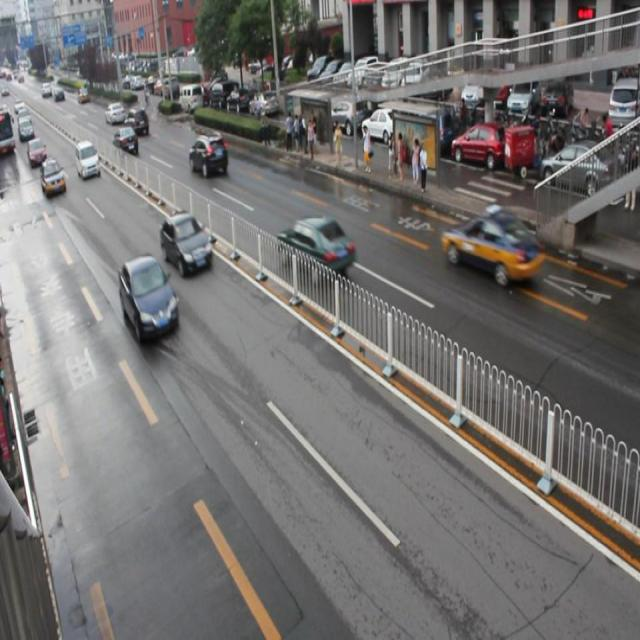car: (439, 202, 545, 286), (119, 255, 179, 342), (277, 214, 354, 280), (160, 210, 214, 272), (189, 132, 229, 176), (40, 160, 66, 198), (75, 140, 101, 178), (114, 125, 140, 157), (123, 106, 149, 137)
